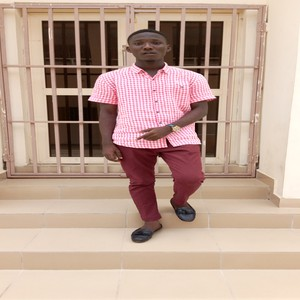Fulokoja_male_student: (106, 27, 197, 234)
